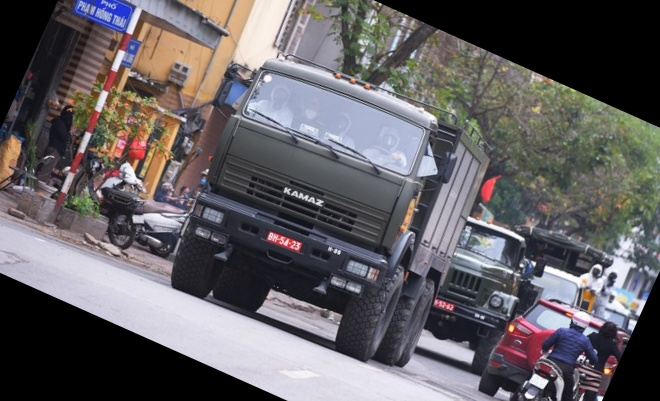plate: (264, 229, 302, 256), (429, 293, 458, 316)
